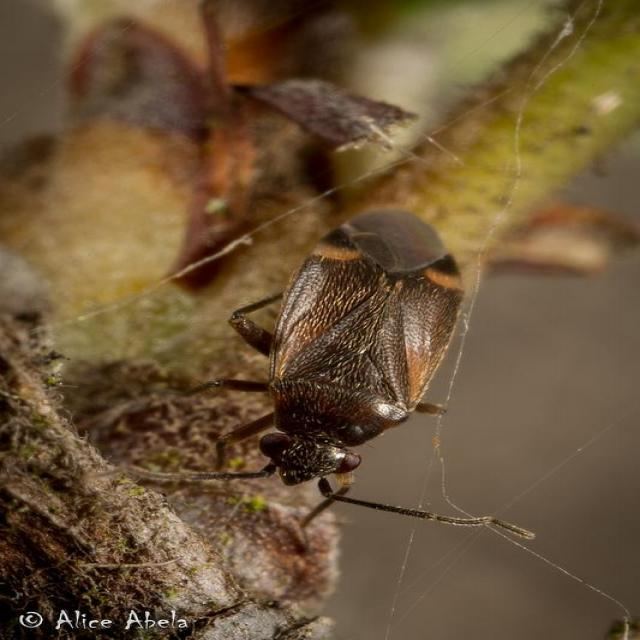Miridae-Adult-: (93, 194, 546, 548)
